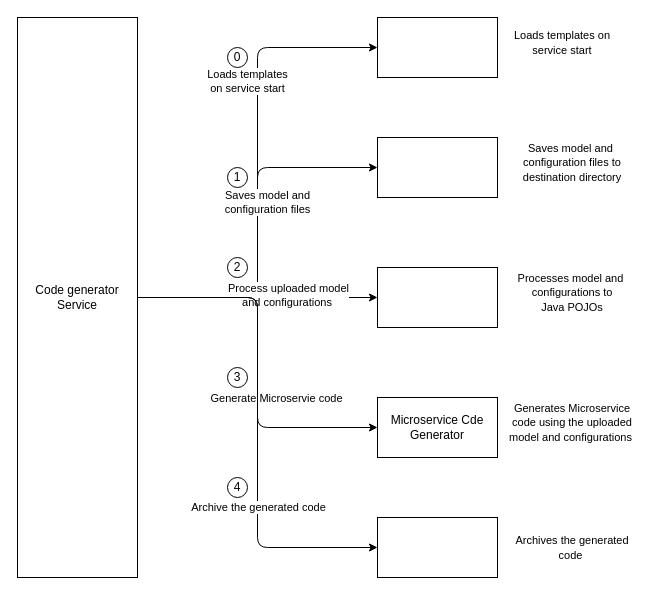
Some shapes in this 655 by 595 pixel diagram are drawn without their labels. Here are the shapes that lost their labels. From the top down, the centre of each, then its label:
At point 437,47: "Template Service".
At point 437,167: "File Upload Service".
At point 437,297: "File Process Service".
At point 437,547: "File Archive Service".
